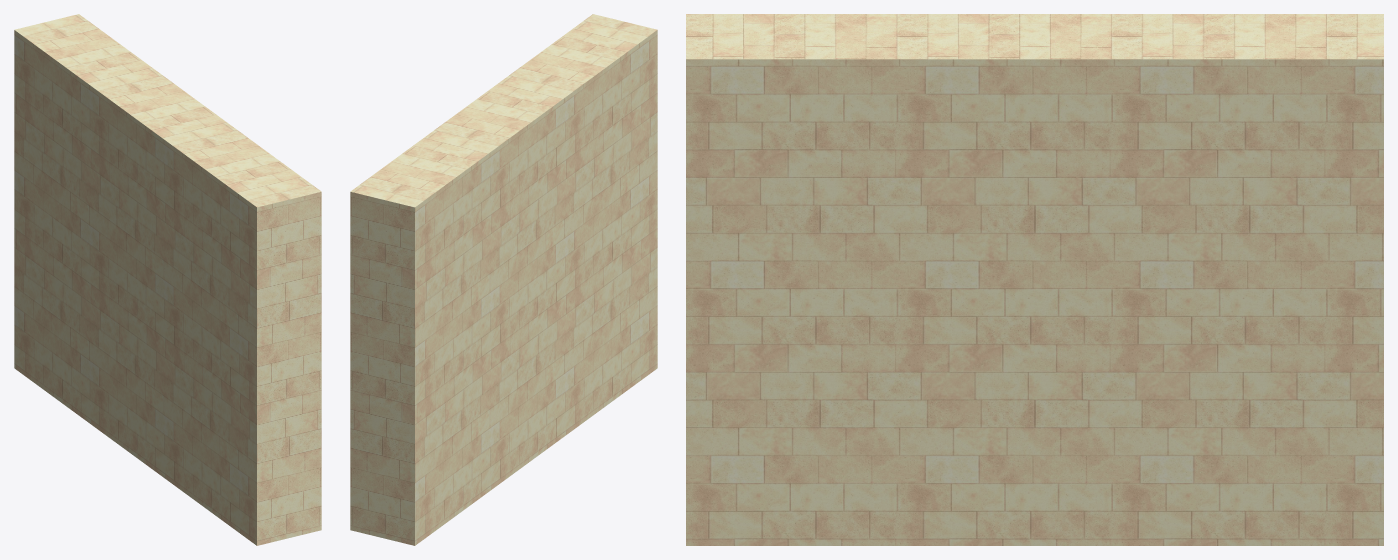
File: SM_wall_10x13.glb
The picture shows the model from 3 angles, left to right: view 1: azimuth 30°, elevation 25°; view 2: azimuth 150°, elevation 25°; view 3: azimuth 270°, elevation 25°; orthographic projection. The views are drawn at different scales.
Parts seen in each view (by area): view 1: SM_wall_10x13; view 2: SM_wall_10x13; view 3: SM_wall_10x13.
Boxes of the visible parts, x1,y1,x2,y2 form: SM_wall_10x13: [14, 14, 321, 545]; SM_wall_10x13: [350, 14, 657, 545]; SM_wall_10x13: [686, 14, 1383, 545].
Size of the model in its own units: 2 by 10 by 13.
1 material, 1 textured.
